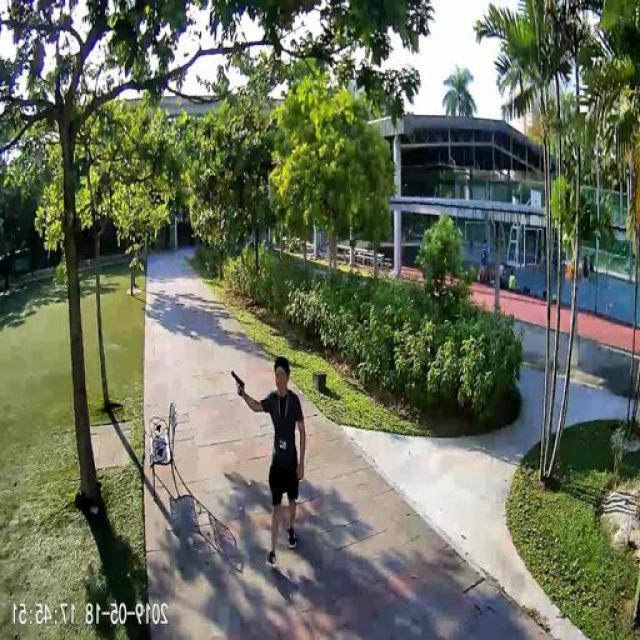weapon: (232, 371, 246, 398)
